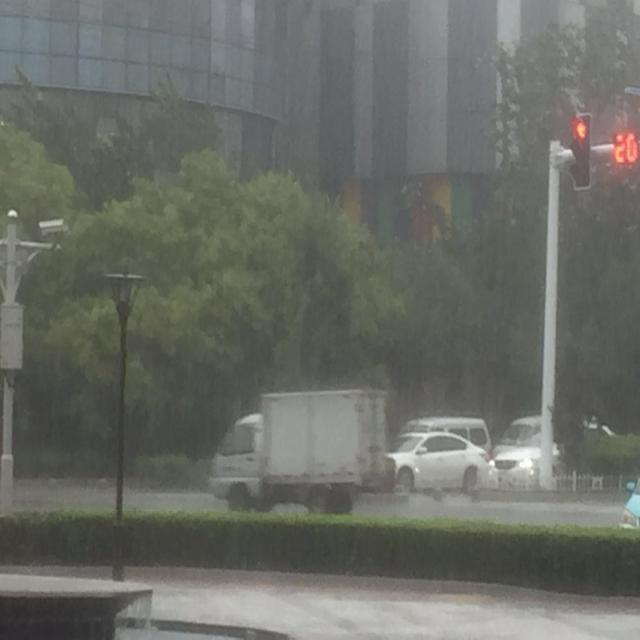car: (496, 422, 614, 490), (388, 432, 498, 492), (398, 417, 490, 455), (620, 474, 638, 529)
